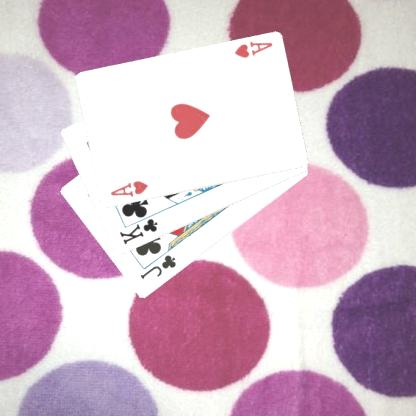AH: (231, 39, 274, 60), (108, 178, 150, 199)
JC: (137, 252, 178, 281)
KC: (116, 210, 158, 247)
